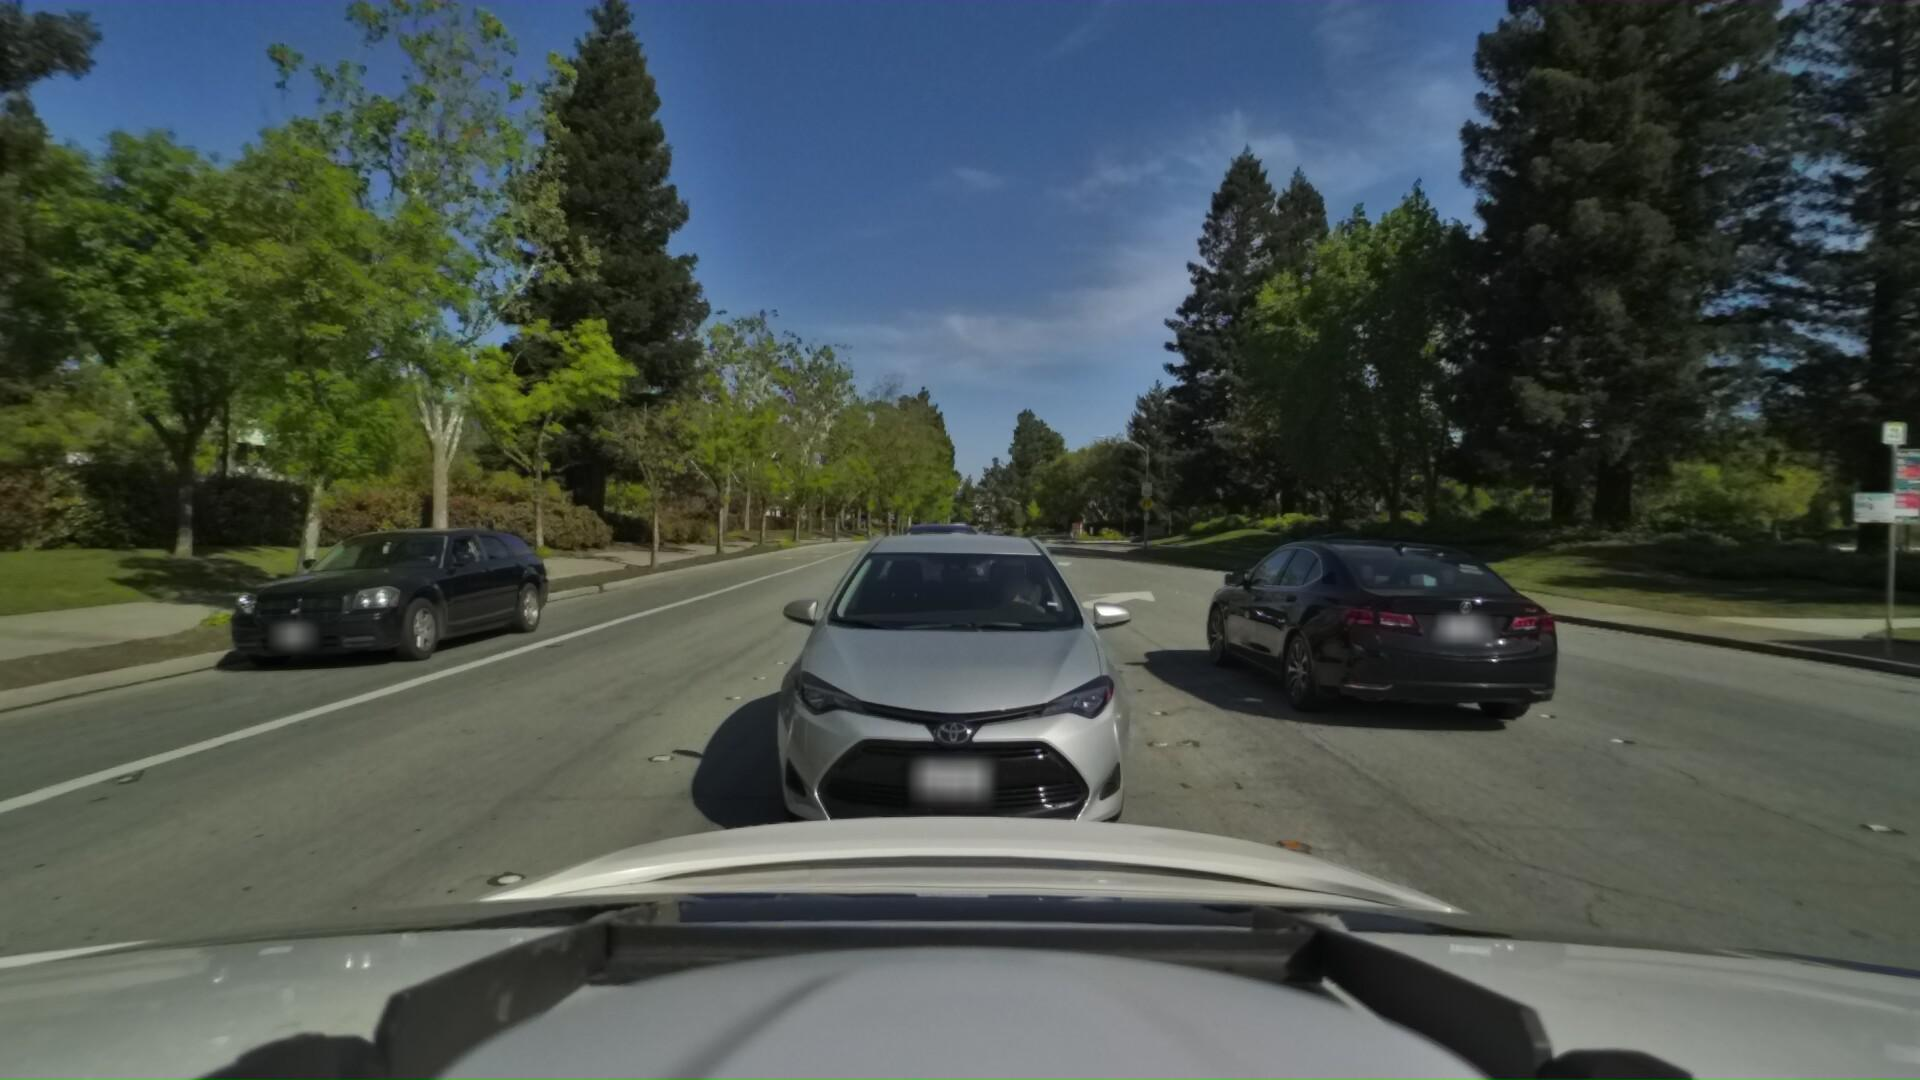car: (735, 501, 1168, 885), (1178, 520, 1551, 716), (146, 506, 539, 684), (868, 512, 986, 612), (944, 516, 965, 535)
